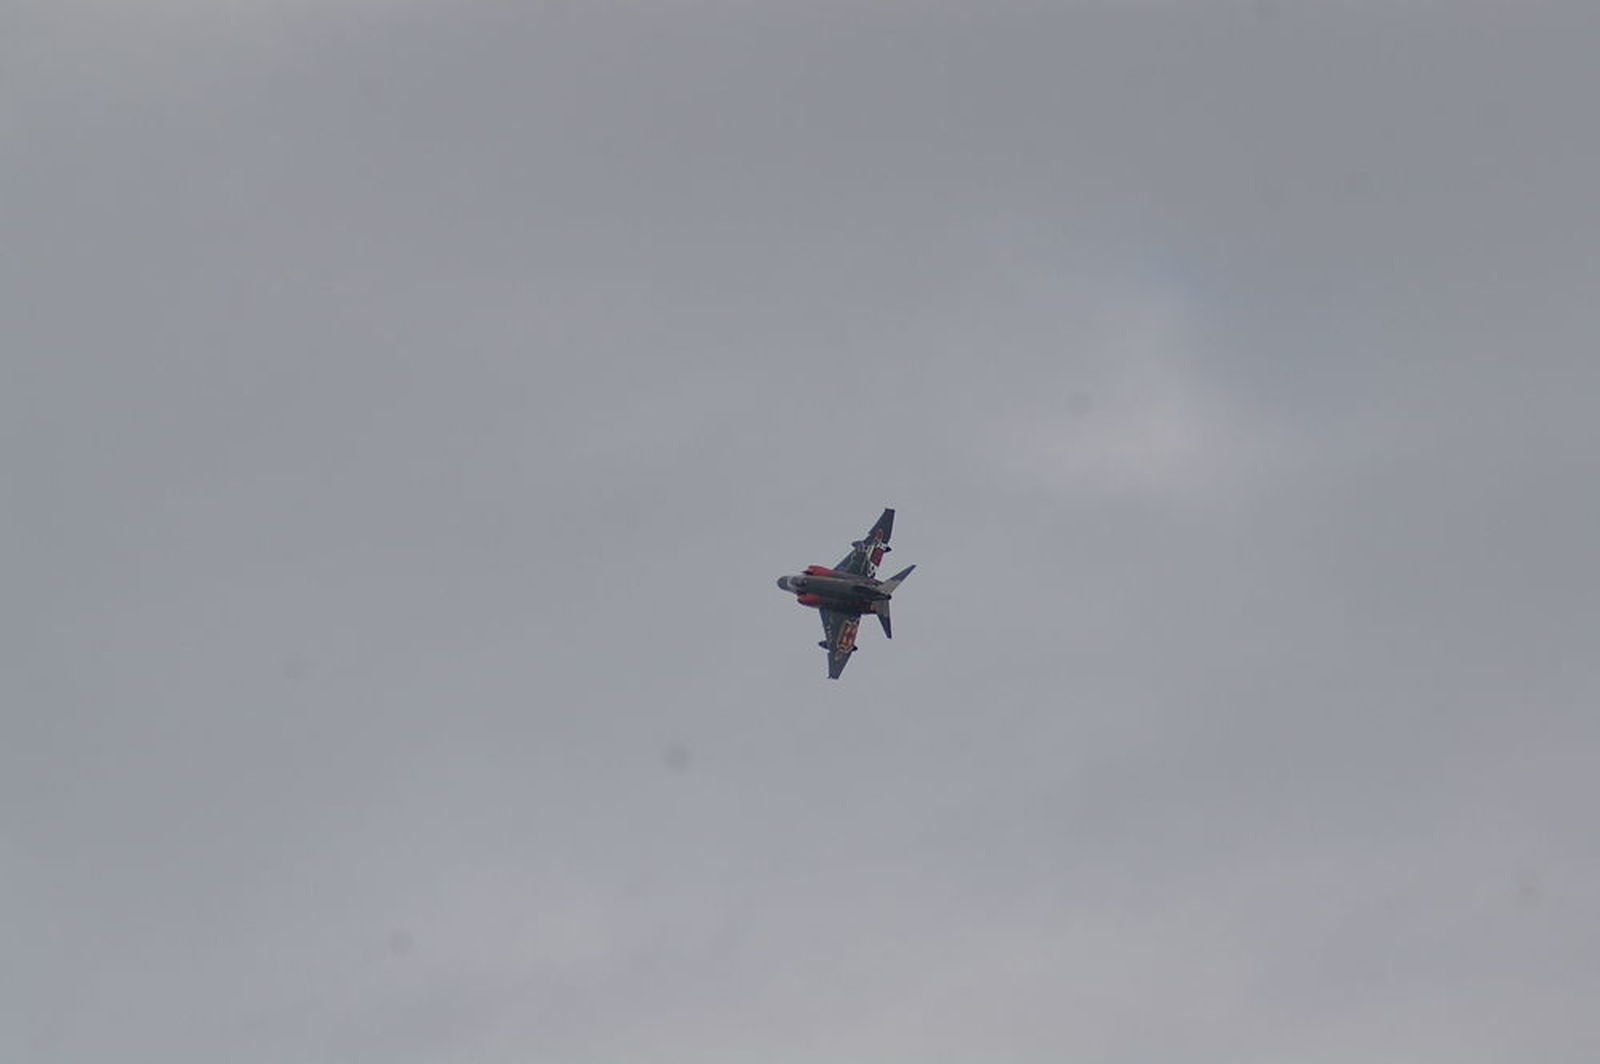F4: (775, 507, 918, 680)
